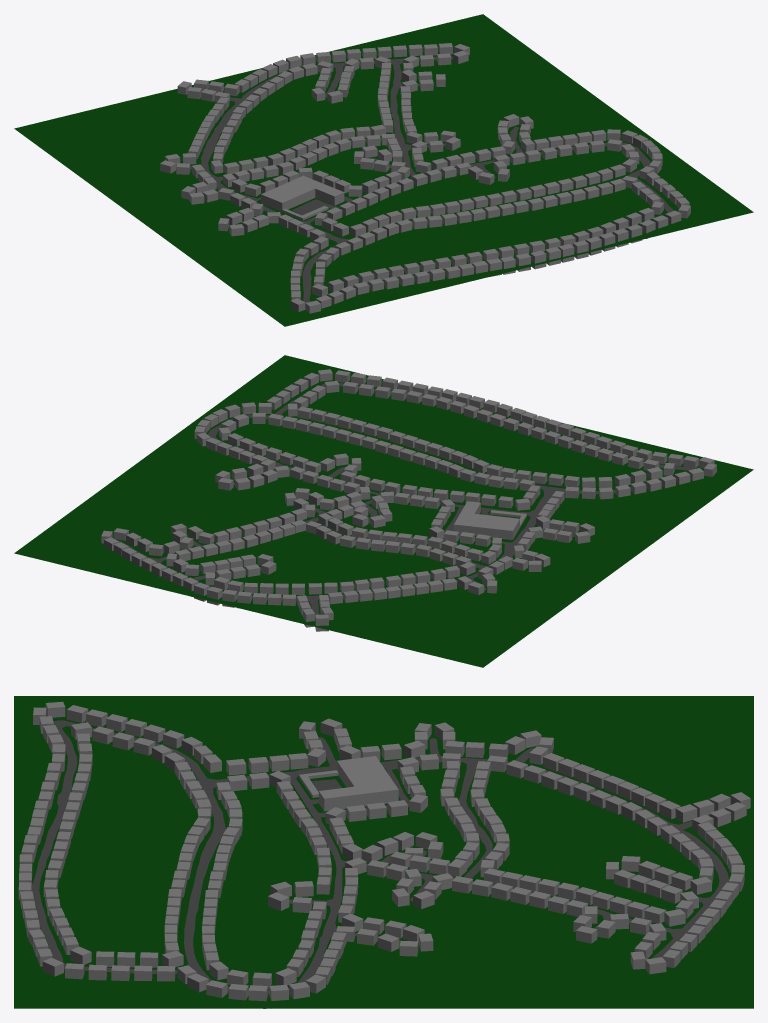
The model's file is town.fbx.
3 renders of one model, top to bottom at view 1: azimuth 30°, elevation 25°; view 2: azimuth 150°, elevation 25°; view 3: azimuth 270°, elevation 25°, orthographic. The views are drawn at different scales.
Visible parts, largest first — view 1: Plane, Cube.346; view 2: Plane, Cube.346; view 3: Plane, Cube.346.
Part boxes in pixels (left/top/right/bottom): Plane: left=14, top=14, right=753, bottom=326; Cube.346: left=160, top=43, right=690, bottom=313; Plane: left=14, top=355, right=753, bottom=667; Cube.346: left=101, top=369, right=716, bottom=631; Plane: left=14, top=696, right=753, bottom=1008; Cube.346: left=18, top=701, right=750, bottom=1008.
Size of the model in its own units: 1520 by 52.95 by 1520.
